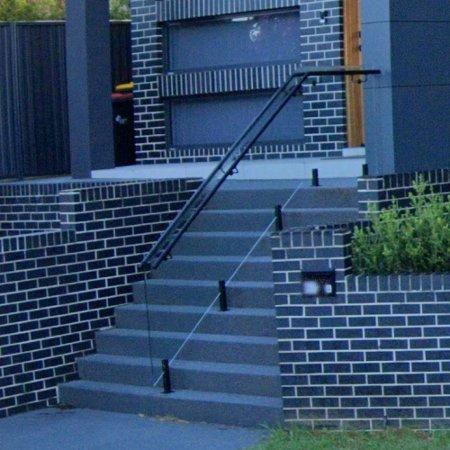stairs: (60, 184, 293, 427)
